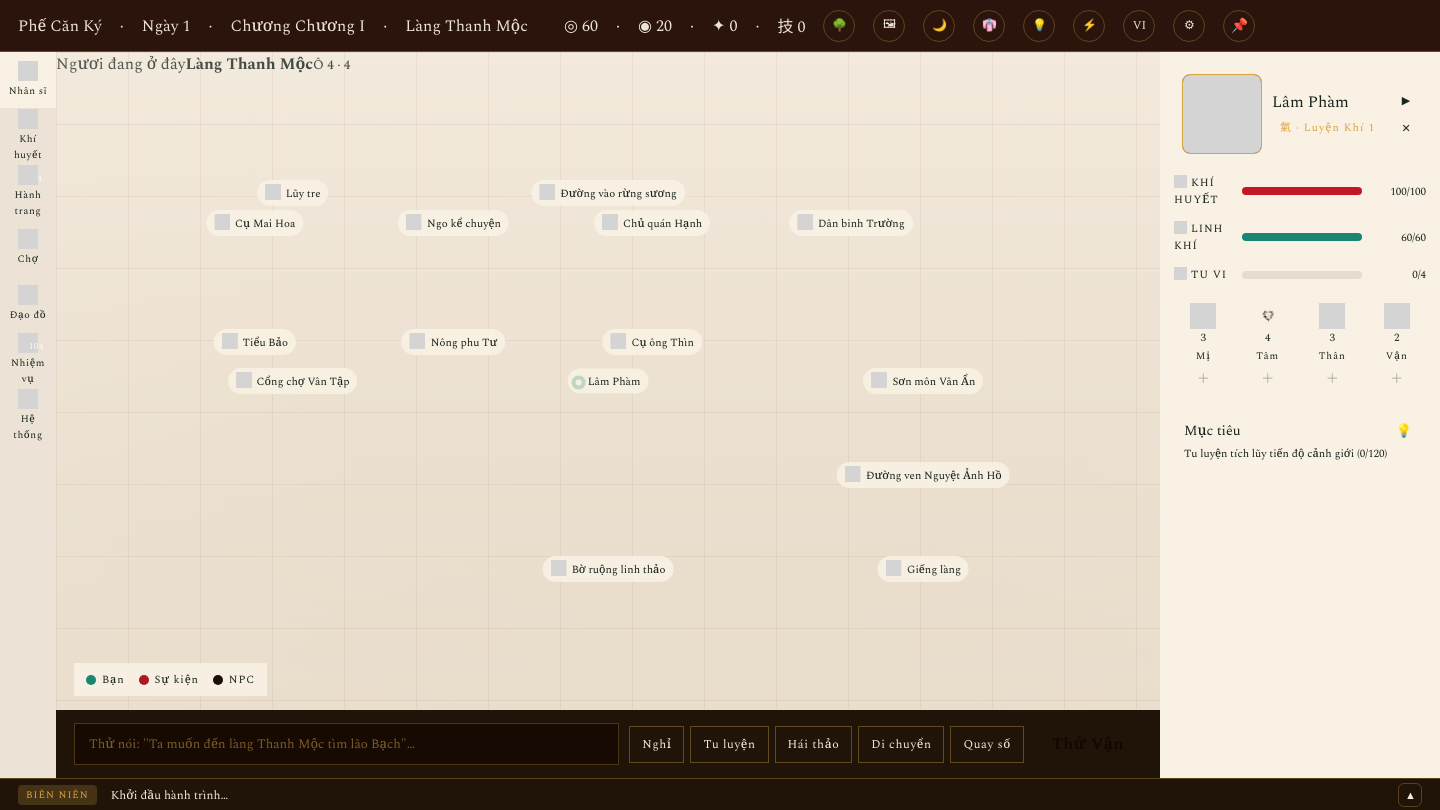
Test: C3-16: Outfits & Titles UI (React Component Tests) › ProtoShell has 👘 topbar button that opens OutfitTitleModal
Click topbar button to open modal
Click the button with test id "outfits-titles-btn" at (990, 26), box [974,10,1006,42]
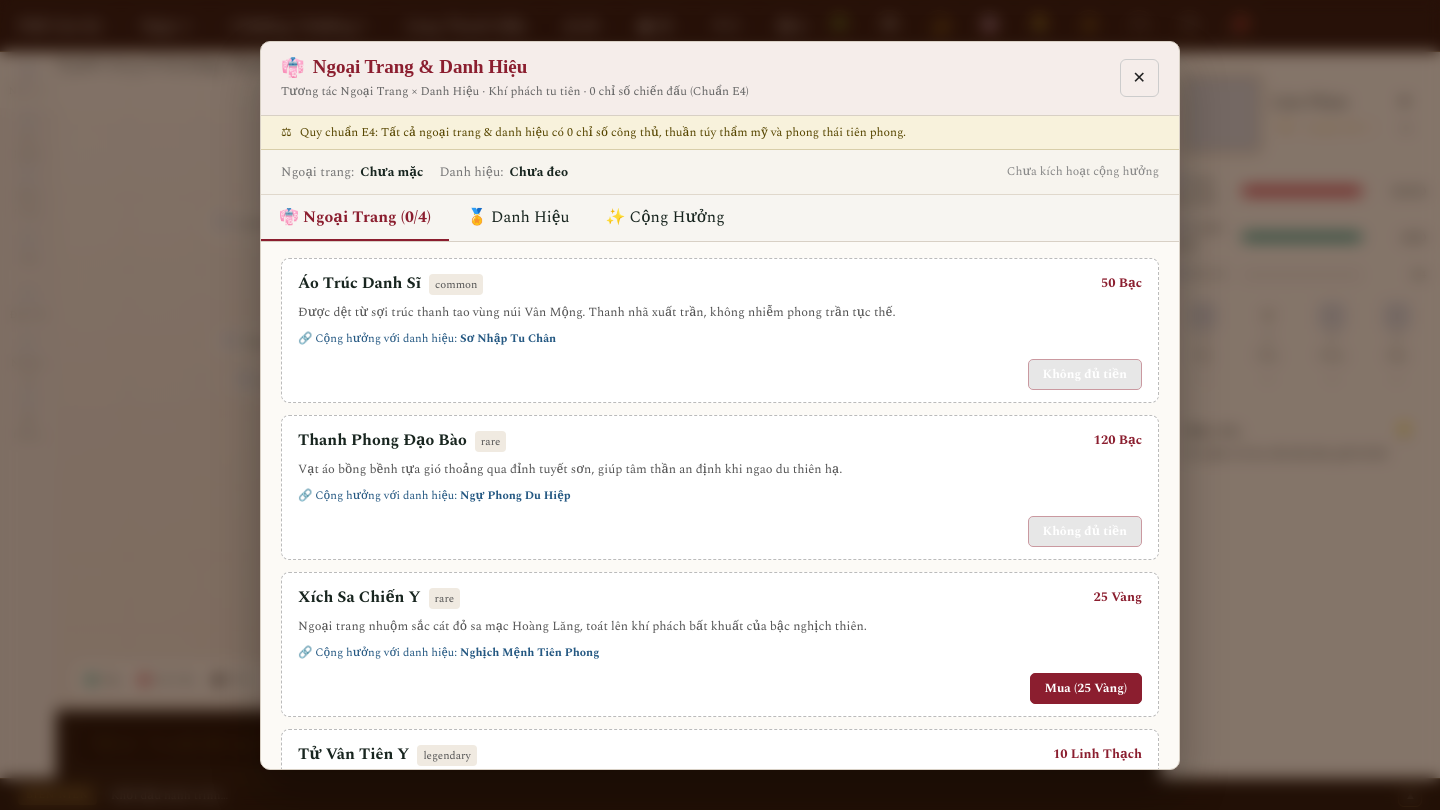
Expected: the dialog "Ngoại Trang & Danh Hiệu" is shown, [260,40,1180,770]
Close button works
Click the button with test id "outfit-modal-close-btn" at (1139, 78), box [1120,59,1159,97]
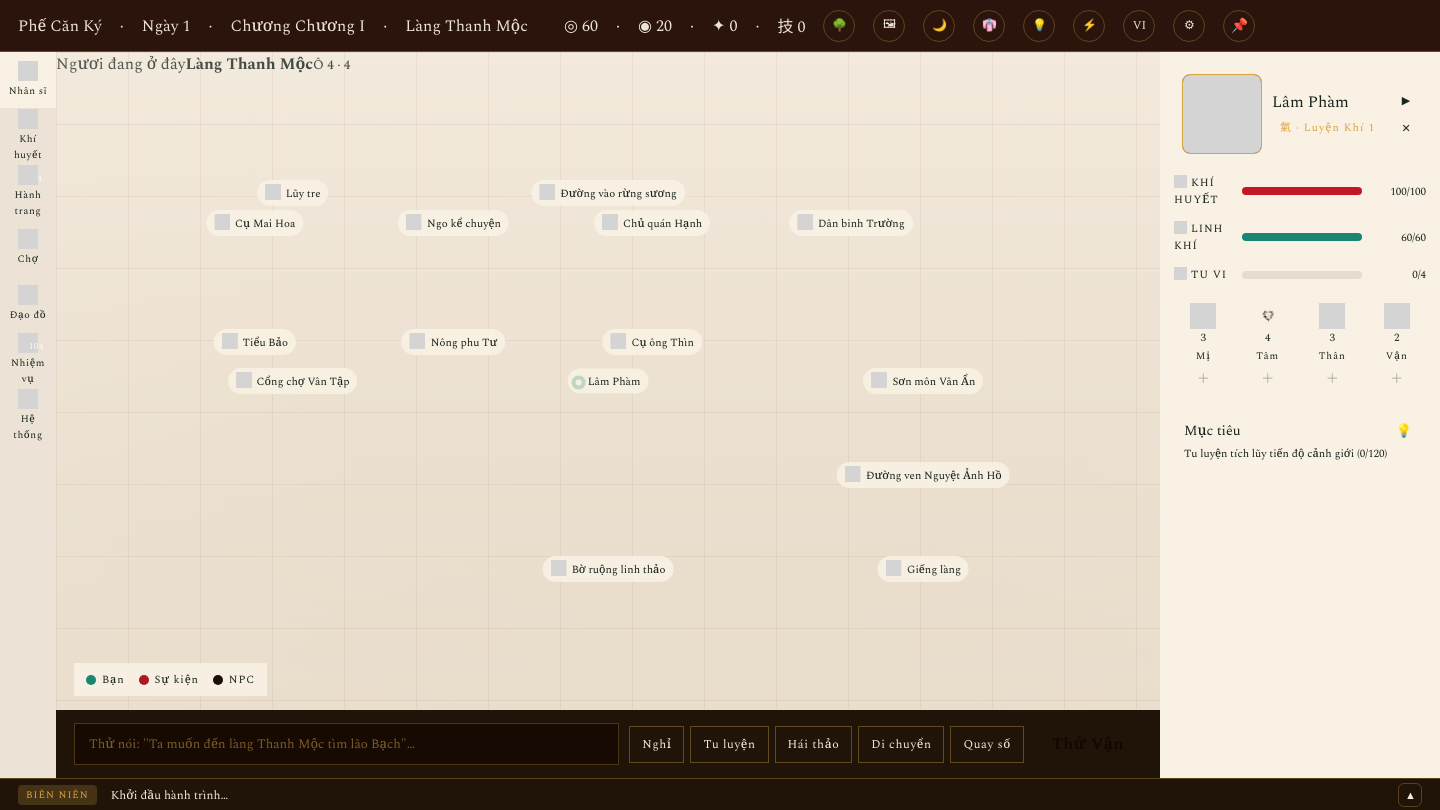
Expected: the text "Ngoại Trang & Danh Hiệu" is gone
